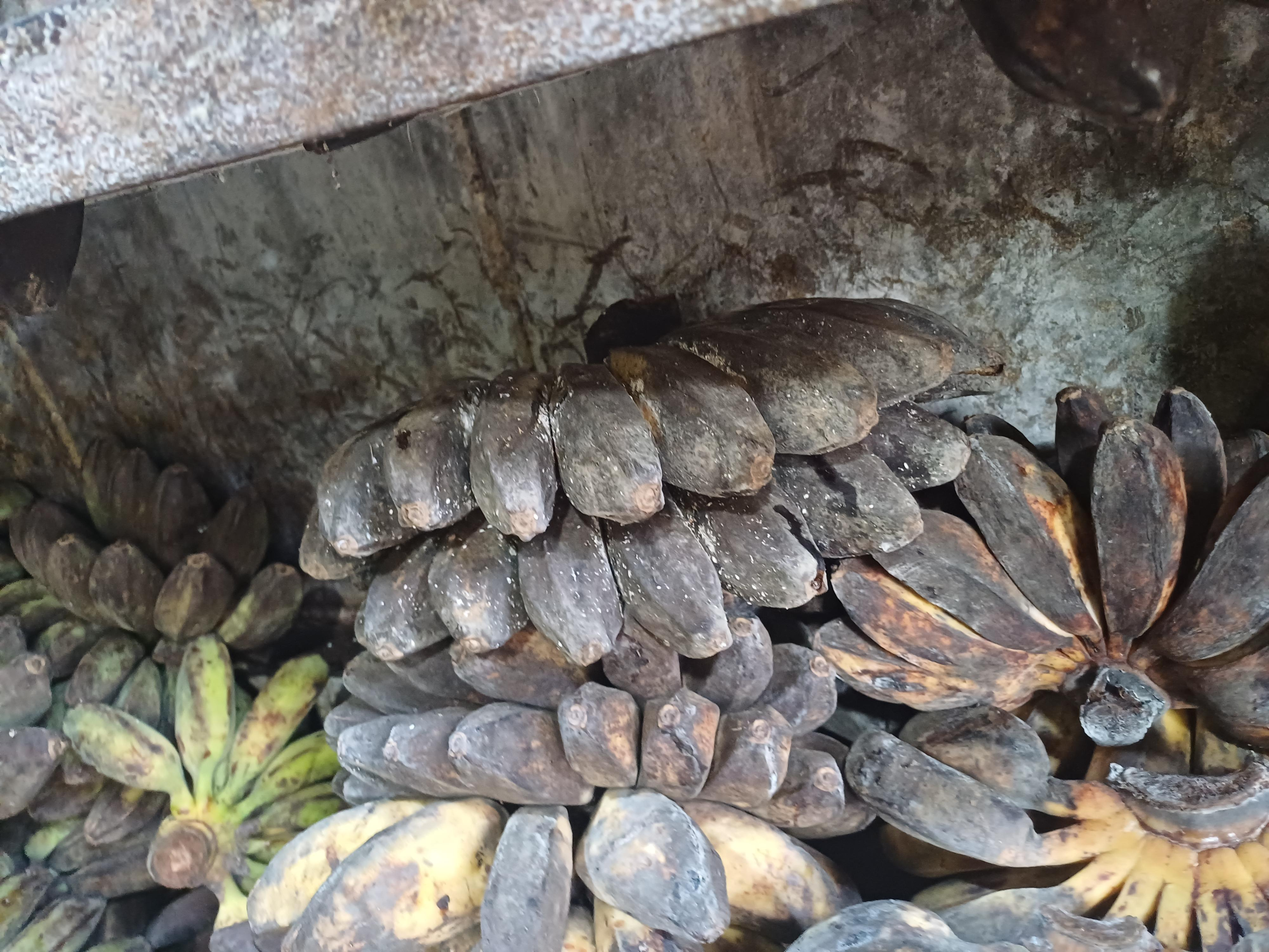overripe: (299, 299, 969, 668), (813, 386, 1269, 747), (325, 610, 876, 836), (845, 704, 1093, 945)
ripe: (247, 789, 858, 952)
underripe: (60, 632, 349, 931), (10, 437, 303, 649), (0, 578, 178, 740), (25, 774, 167, 898)
